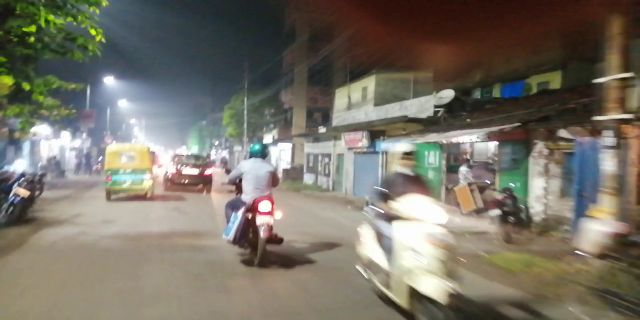Autorickshaw: (96, 141, 166, 205)
Car: (171, 151, 219, 205)
Motorbike: (227, 140, 288, 265)
